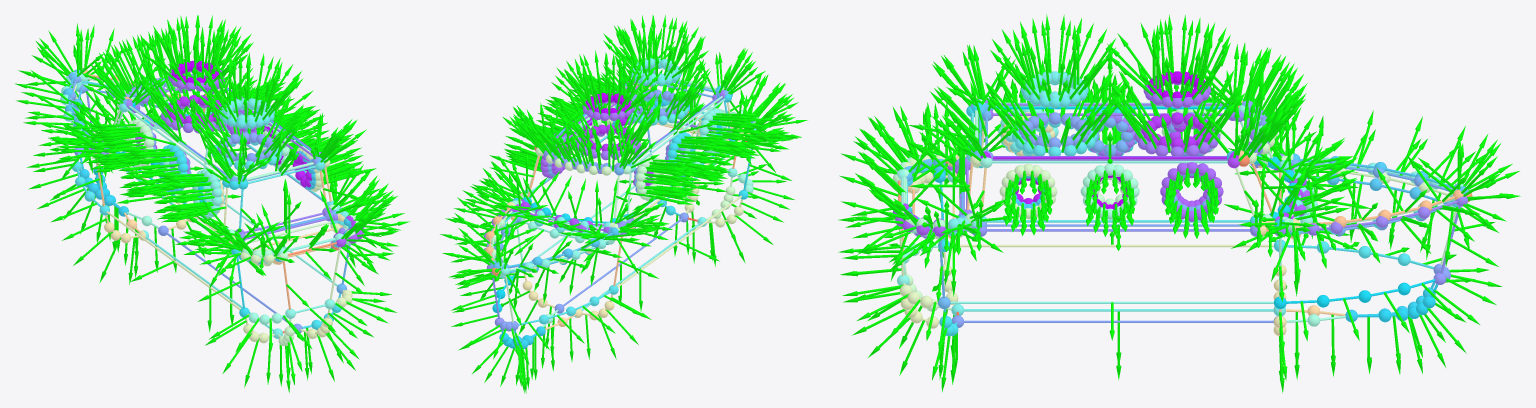
The model's file is onshape_boat.gltf.
3 views of the same model, side by side, from view 1: azimuth 30°, elevation 25°; view 2: azimuth 150°, elevation 25°; view 3: azimuth 270°, elevation 25° (orthographic). The views are drawn at different scales.
Size of the model in its own units: 0.4529 by 0.593 by 1.07.
